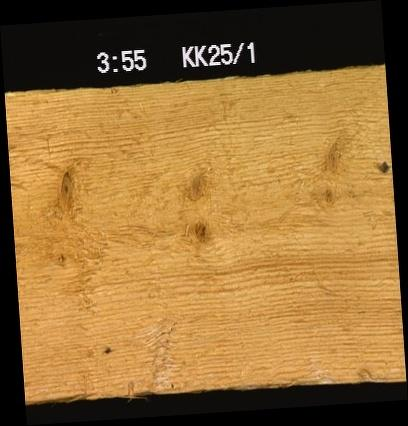small_knot: (320, 181, 340, 210)
sound_knot: (174, 155, 217, 205), (190, 215, 210, 246)
